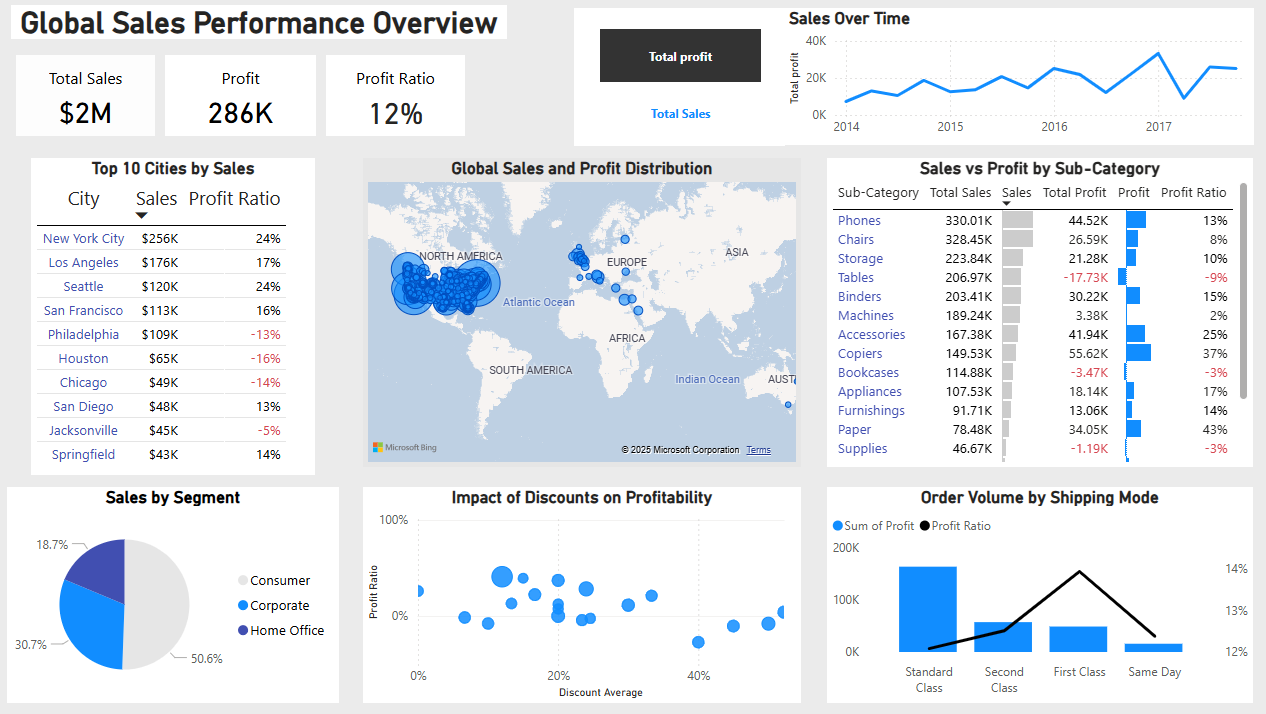

The page's visual inventory and layout, read from the dashboard file:
{"tool":"powerbi","page":{"name":"Page 1","canvas":[1280,720],"ordinal":0},"visuals":[{"type":"shape","box":[0,0,1280,720],"z":0},{"type":"cardVisual","fields":{"Data":["Sum(Sample - Superstore.Sales)"]},"box":[12.2,53.3,148.9,91.1],"z":1000},{"type":"cardVisual","fields":{"Data":["Sum(Sample - Superstore.Profit)"]},"box":[161.1,53.3,161.1,91.1],"z":2000},{"type":"lineStackedColumnComboChart","title":"Order Volume by Shipping Mode","fields":{"Category":["Sample - Superstore.Ship Mode"],"Y":["Sum(Sample - Superstore.Profit)"],"Y2":["Sample - Superstore.Profit Ratio"]},"box":[755,471,510,235],"z":4000},{"type":"tableEx","title":"Top 10 Cities by Sales ","fields":{"Values":["Sample - Superstore.City","Sum(Sample - Superstore.Sales)","Sample - Superstore.Profit Ratio"]},"box":[20,153,281,304],"z":5000},{"type":"pieChart","title":"Sales by Segment","fields":{"Y":["Sum(Sample - Superstore.Sales)"],"Category":["Sample - Superstore.Segment"]},"box":[322,471,408,234],"z":6000},{"type":"cardVisual","fields":{"Data":["Sample - Superstore.Profit Ratio"]},"box":[322.2,53.3,148.9,91.1],"z":7000},{"type":"map","title":"Global Sales and Profit Distribution","fields":{"Category":["Sample - Superstore.City"],"Size":["Sum(Sample - Superstore.Sales)"]},"box":[322,153,408,304],"z":8000},{"type":"tableEx","title":"Sales vs Profit by Sub-Category","fields":{"Values":["Sample - Superstore.Sub-Category","Parameters.Total Sales","Sum(Sample - Superstore.Sales)","Parameters.Total profit","Sum(Sample - Superstore.Profit)","Sample - Superstore.Profit Ratio"]},"box":[754.4,153.3,510,303.3],"z":9000},{"type":"slicer","fields":{"Values":["Metric Selector.Metric Selector"]},"box":[543,8,211,136],"z":10000},{"type":"scatterChart","title":"Impact of Discounts on Profitability","fields":{"X":["Avg(Sample - Superstore.Discount)"],"Y":["Sample - Superstore.Profit Ratio"],"Category":["Sample - Superstore.Product Name"],"Size":["Sum(Sample - Superstore.Sales)"]},"box":[20,471,281,234],"z":11000},{"type":"shape","title":"Global Sales Performance Overview","box":[12.2,7.8,495.6,34.4],"z":12000},{"type":"lineChart","title":"Sales Over Time","fields":{"Category":["Sample - Superstore.Order Date.Variation.Date Hierarchy.Year","Sample - Superstore.Order Date.Variation.Date Hierarchy.Quarter","Sample - Superstore.Order Date.Variation.Date Hierarchy.Month","Sample - Superstore.Order Date.Variation.Date Hierarchy.Day"],"Y":["Parameters.Profit"]},"box":[754,8,511,137],"z":12001}]}

Visuals, with their boxes in screenshot pixels (x1, y1, x2, y2), scaled from the page's 1280x720 canvas onto the 1266x714 screenshot:
shape: (x1=0, y1=0, x2=1265, y2=713)
cardVisual - Sum(Sample - Superstore.Sales): (x1=12, y1=53, x2=159, y2=143)
cardVisual - Sum(Sample - Superstore.Profit): (x1=159, y1=53, x2=319, y2=143)
"Order Volume by Shipping Mode" lineStackedColumnComboChart: (x1=747, y1=467, x2=1251, y2=700)
"Top 10 Cities by Sales " tableEx: (x1=20, y1=152, x2=298, y2=453)
"Sales by Segment" pieChart: (x1=318, y1=467, x2=722, y2=699)
cardVisual - Sample - Superstore.Profit Ratio: (x1=319, y1=53, x2=466, y2=143)
"Global Sales and Profit Distribution" map: (x1=318, y1=152, x2=722, y2=453)
"Sales vs Profit by Sub-Category" tableEx: (x1=746, y1=152, x2=1251, y2=453)
slicer - Metric Selector.Metric Selector: (x1=537, y1=8, x2=746, y2=143)
"Impact of Discounts on Profitability" scatterChart: (x1=20, y1=467, x2=298, y2=699)
"Global Sales Performance Overview" shape: (x1=12, y1=8, x2=502, y2=42)
"Sales Over Time" lineChart: (x1=746, y1=8, x2=1251, y2=144)
